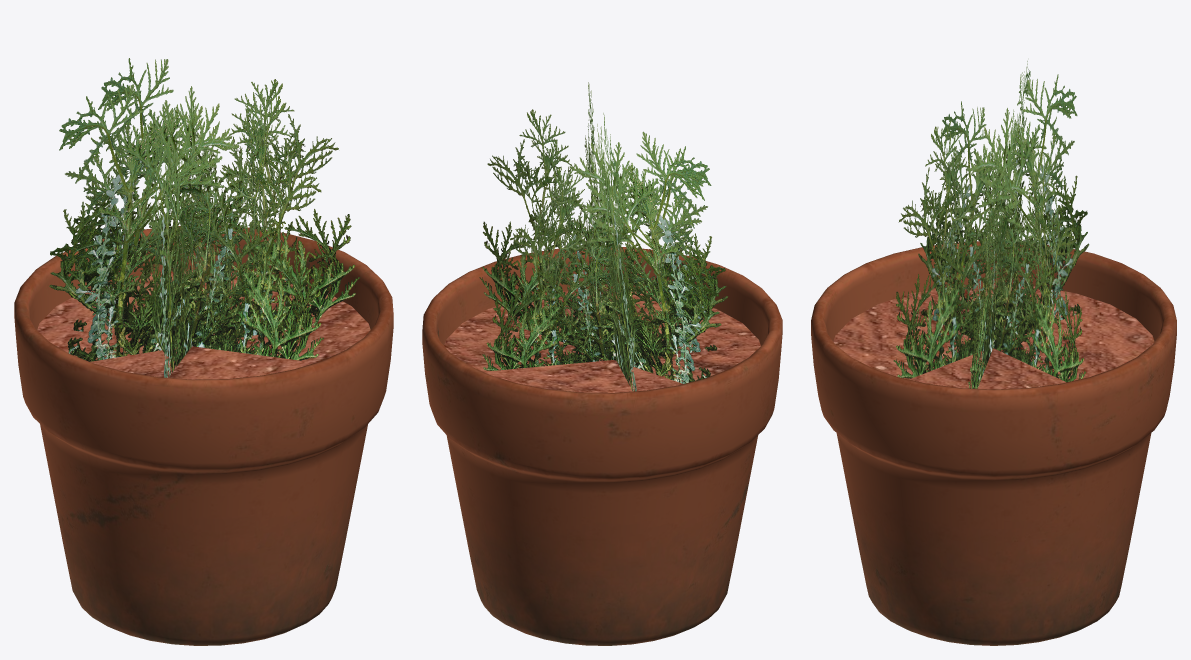
File: maceta_pasto.obj
3 views of the same model, side by side, from view 1: azimuth 30°, elevation 25°; view 2: azimuth 150°, elevation 25°; view 3: azimuth 270°, elevation 25° (orthographic). The views are drawn at different scales.
Parts seen in each view (by area): view 1: maceta_pasto; view 2: maceta_pasto; view 3: maceta_pasto.
Part boxes in pixels (x1=…): maceta_pasto: x1=14, y1=58, x2=393, y2=645; maceta_pasto: x1=422, y1=82, x2=782, y2=645; maceta_pasto: x1=811, y1=61, x2=1176, y2=645.
Bounding box in the file's own units: 0.3521 × 0.5775 × 0.3521.
